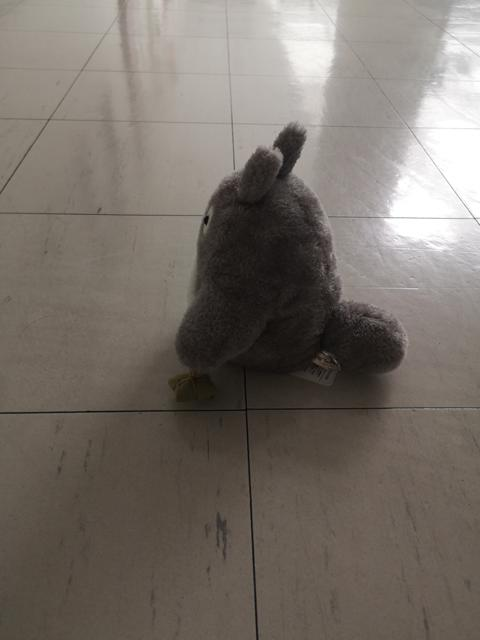totoro: (168, 116, 418, 410)
